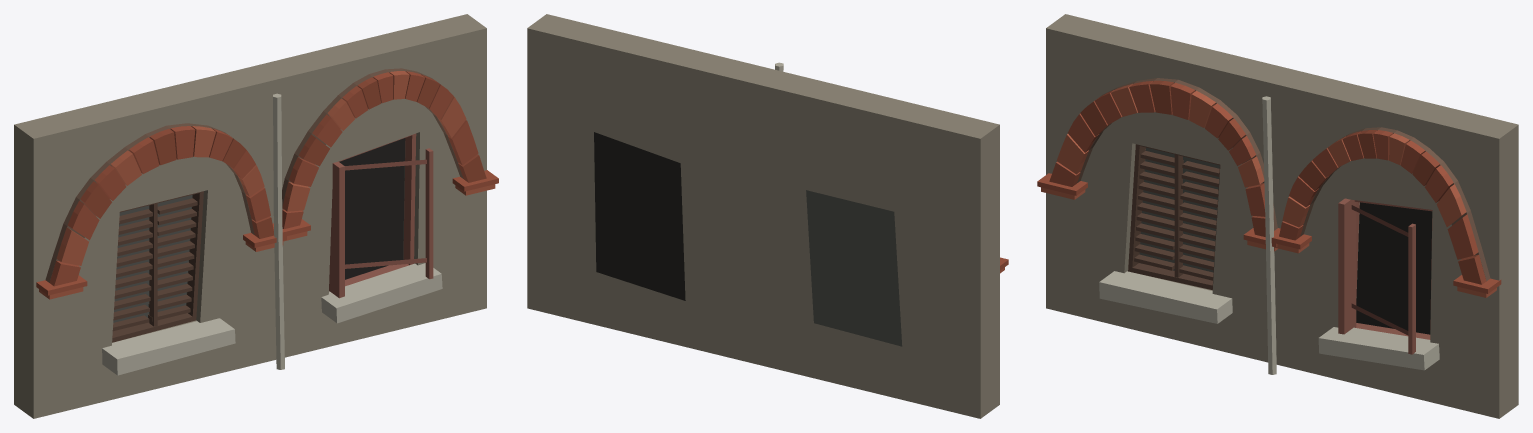
The model's file is huangpu-zizhong-424-426-paired-brick-arches-lod.glb.
The picture shows the model from 3 angles, left to right: view 1: azimuth 30°, elevation 25°; view 2: azimuth 150°, elevation 25°; view 3: azimuth 330°, elevation 25°; orthographic projection.
Parts seen in each view (by area): view 1: 自忠路424、426号临街二层双砖券与木窗; view 2: 自忠路424、426号临街二层双砖券与木窗; view 3: 自忠路424、426号临街二层双砖券与木窗.
Boxes of the visible parts, box(x1,y1,x2,y2) form: 自忠路424、426号临街二层双砖券与木窗: box(14, 14, 498, 418); 自忠路424、426号临街二层双砖券与木窗: box(527, 14, 1008, 418); 自忠路424、426号临街二层双砖券与木窗: box(1037, 14, 1518, 418).
Size of the model in its own units: 3.76 by 2.22 by 0.52.
